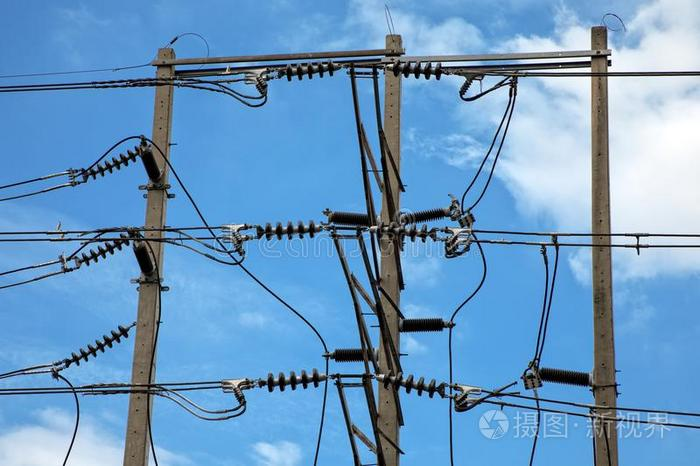insulator: (70, 326, 128, 366), (82, 145, 139, 178), (379, 370, 437, 399), (78, 232, 128, 265), (265, 368, 323, 395), (260, 216, 318, 242), (284, 60, 337, 83), (374, 221, 431, 242), (393, 58, 442, 80)
